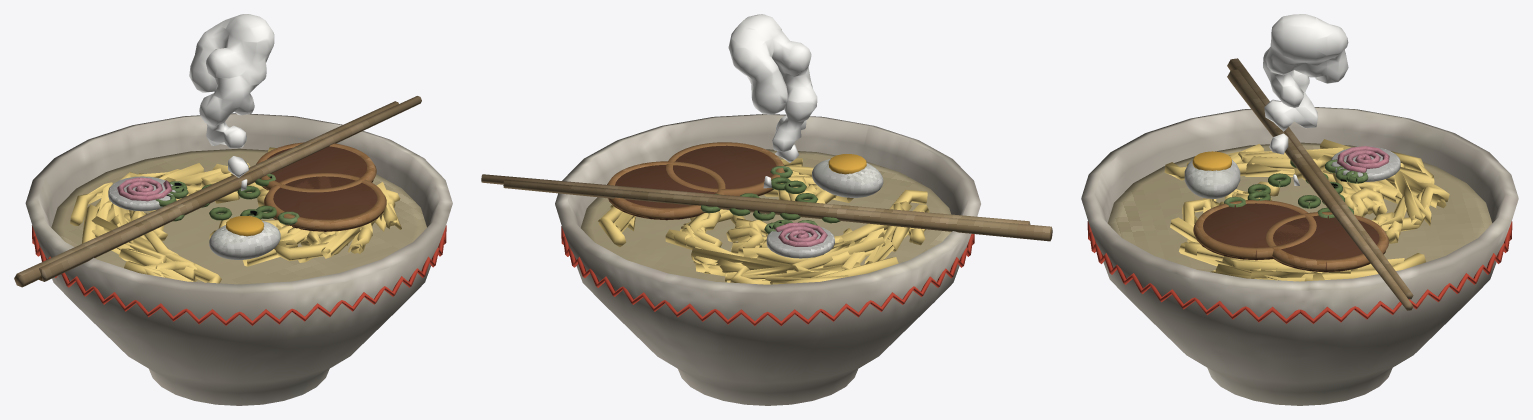
File: ramen_shio.glb
3 renders of one model, left to right at view 1: azimuth 30°, elevation 25°; view 2: azimuth 150°, elevation 25°; view 3: azimuth 270°, elevation 25°, orthographic. The views are drawn at different scales.
Visible parts, largest first — view 1: ramen_shio_felt_cream, ramen_shio_felt_broth_shio, ramen_shio_yarn_noodle, ramen_shio_steam3, ramen_shio_wood_light, ramen_shio_felt_brown, ramen_shio_felt_tan, ramen_shio_felt_rice, ramen_shio_thread_red, ramen_shio_felt_green, ramen_shio_felt_pink, ramen_shio_felt_yellow; view 2: ramen_shio_felt_cream, ramen_shio_yarn_noodle, ramen_shio_felt_broth_shio, ramen_shio_wood_light, ramen_shio_steam3, ramen_shio_felt_brown, ramen_shio_felt_tan, ramen_shio_felt_rice, ramen_shio_thread_red, ramen_shio_felt_green, ramen_shio_felt_pink, ramen_shio_felt_yellow; view 3: ramen_shio_felt_cream, ramen_shio_felt_broth_shio, ramen_shio_yarn_noodle, ramen_shio_steam3, ramen_shio_felt_brown, ramen_shio_wood_light, ramen_shio_felt_tan, ramen_shio_thread_red, ramen_shio_felt_rice, ramen_shio_felt_green, ramen_shio_felt_pink, ramen_shio_felt_yellow.
Boxes of the visible parts, x1,y1,x2,y2 form: ramen_shio_felt_cream: (25, 113, 452, 405); ramen_shio_felt_broth_shio: (51, 148, 426, 284); ramen_shio_yarn_noodle: (70, 147, 401, 283); ramen_shio_steam3: (189, 14, 274, 190); ramen_shio_wood_light: (14, 96, 421, 287); ramen_shio_felt_brown: (262, 146, 383, 231); ramen_shio_felt_tan: (256, 142, 386, 231); ramen_shio_felt_rice: (108, 176, 280, 259); ramen_shio_thread_red: (32, 225, 446, 325); ramen_shio_felt_green: (155, 173, 299, 224); ramen_shio_felt_pink: (117, 177, 172, 201); ramen_shio_felt_yellow: (226, 216, 263, 236); ramen_shio_felt_cream: (555, 114, 980, 405); ramen_shio_yarn_noodle: (598, 158, 929, 284); ramen_shio_felt_broth_shio: (581, 149, 951, 282); ramen_shio_wood_light: (481, 174, 1052, 241); ramen_shio_steam3: (728, 14, 817, 188); ramen_shio_felt_brown: (608, 145, 776, 220); ramen_shio_felt_tan: (607, 142, 784, 219); ramen_shio_felt_rice: (766, 158, 883, 258); ramen_shio_thread_red: (561, 226, 974, 325); ramen_shio_felt_green: (700, 166, 840, 234); ramen_shio_felt_pink: (774, 222, 827, 246); ramen_shio_felt_yellow: (828, 154, 866, 174); ramen_shio_felt_cream: (1081, 107, 1518, 405); ramen_shio_felt_broth_shio: (1107, 142, 1492, 271); ramen_shio_yarn_noodle: (1164, 139, 1449, 281); ramen_shio_steam3: (1263, 14, 1348, 185); ramen_shio_felt_brown: (1196, 203, 1385, 272); ramen_shio_wood_light: (1227, 58, 1413, 310); ramen_shio_felt_tan: (1193, 200, 1389, 271); ramen_shio_thread_red: (1087, 221, 1512, 323); ramen_shio_felt_rice: (1184, 146, 1400, 198); ramen_shio_felt_green: (1224, 159, 1368, 218); ramen_shio_felt_pink: (1337, 146, 1389, 172); ramen_shio_felt_yellow: (1192, 151, 1231, 170).
Bounding box in the file's own units: 0.3955 × 0.2691 × 0.3.
12 materials, 8 textured.
